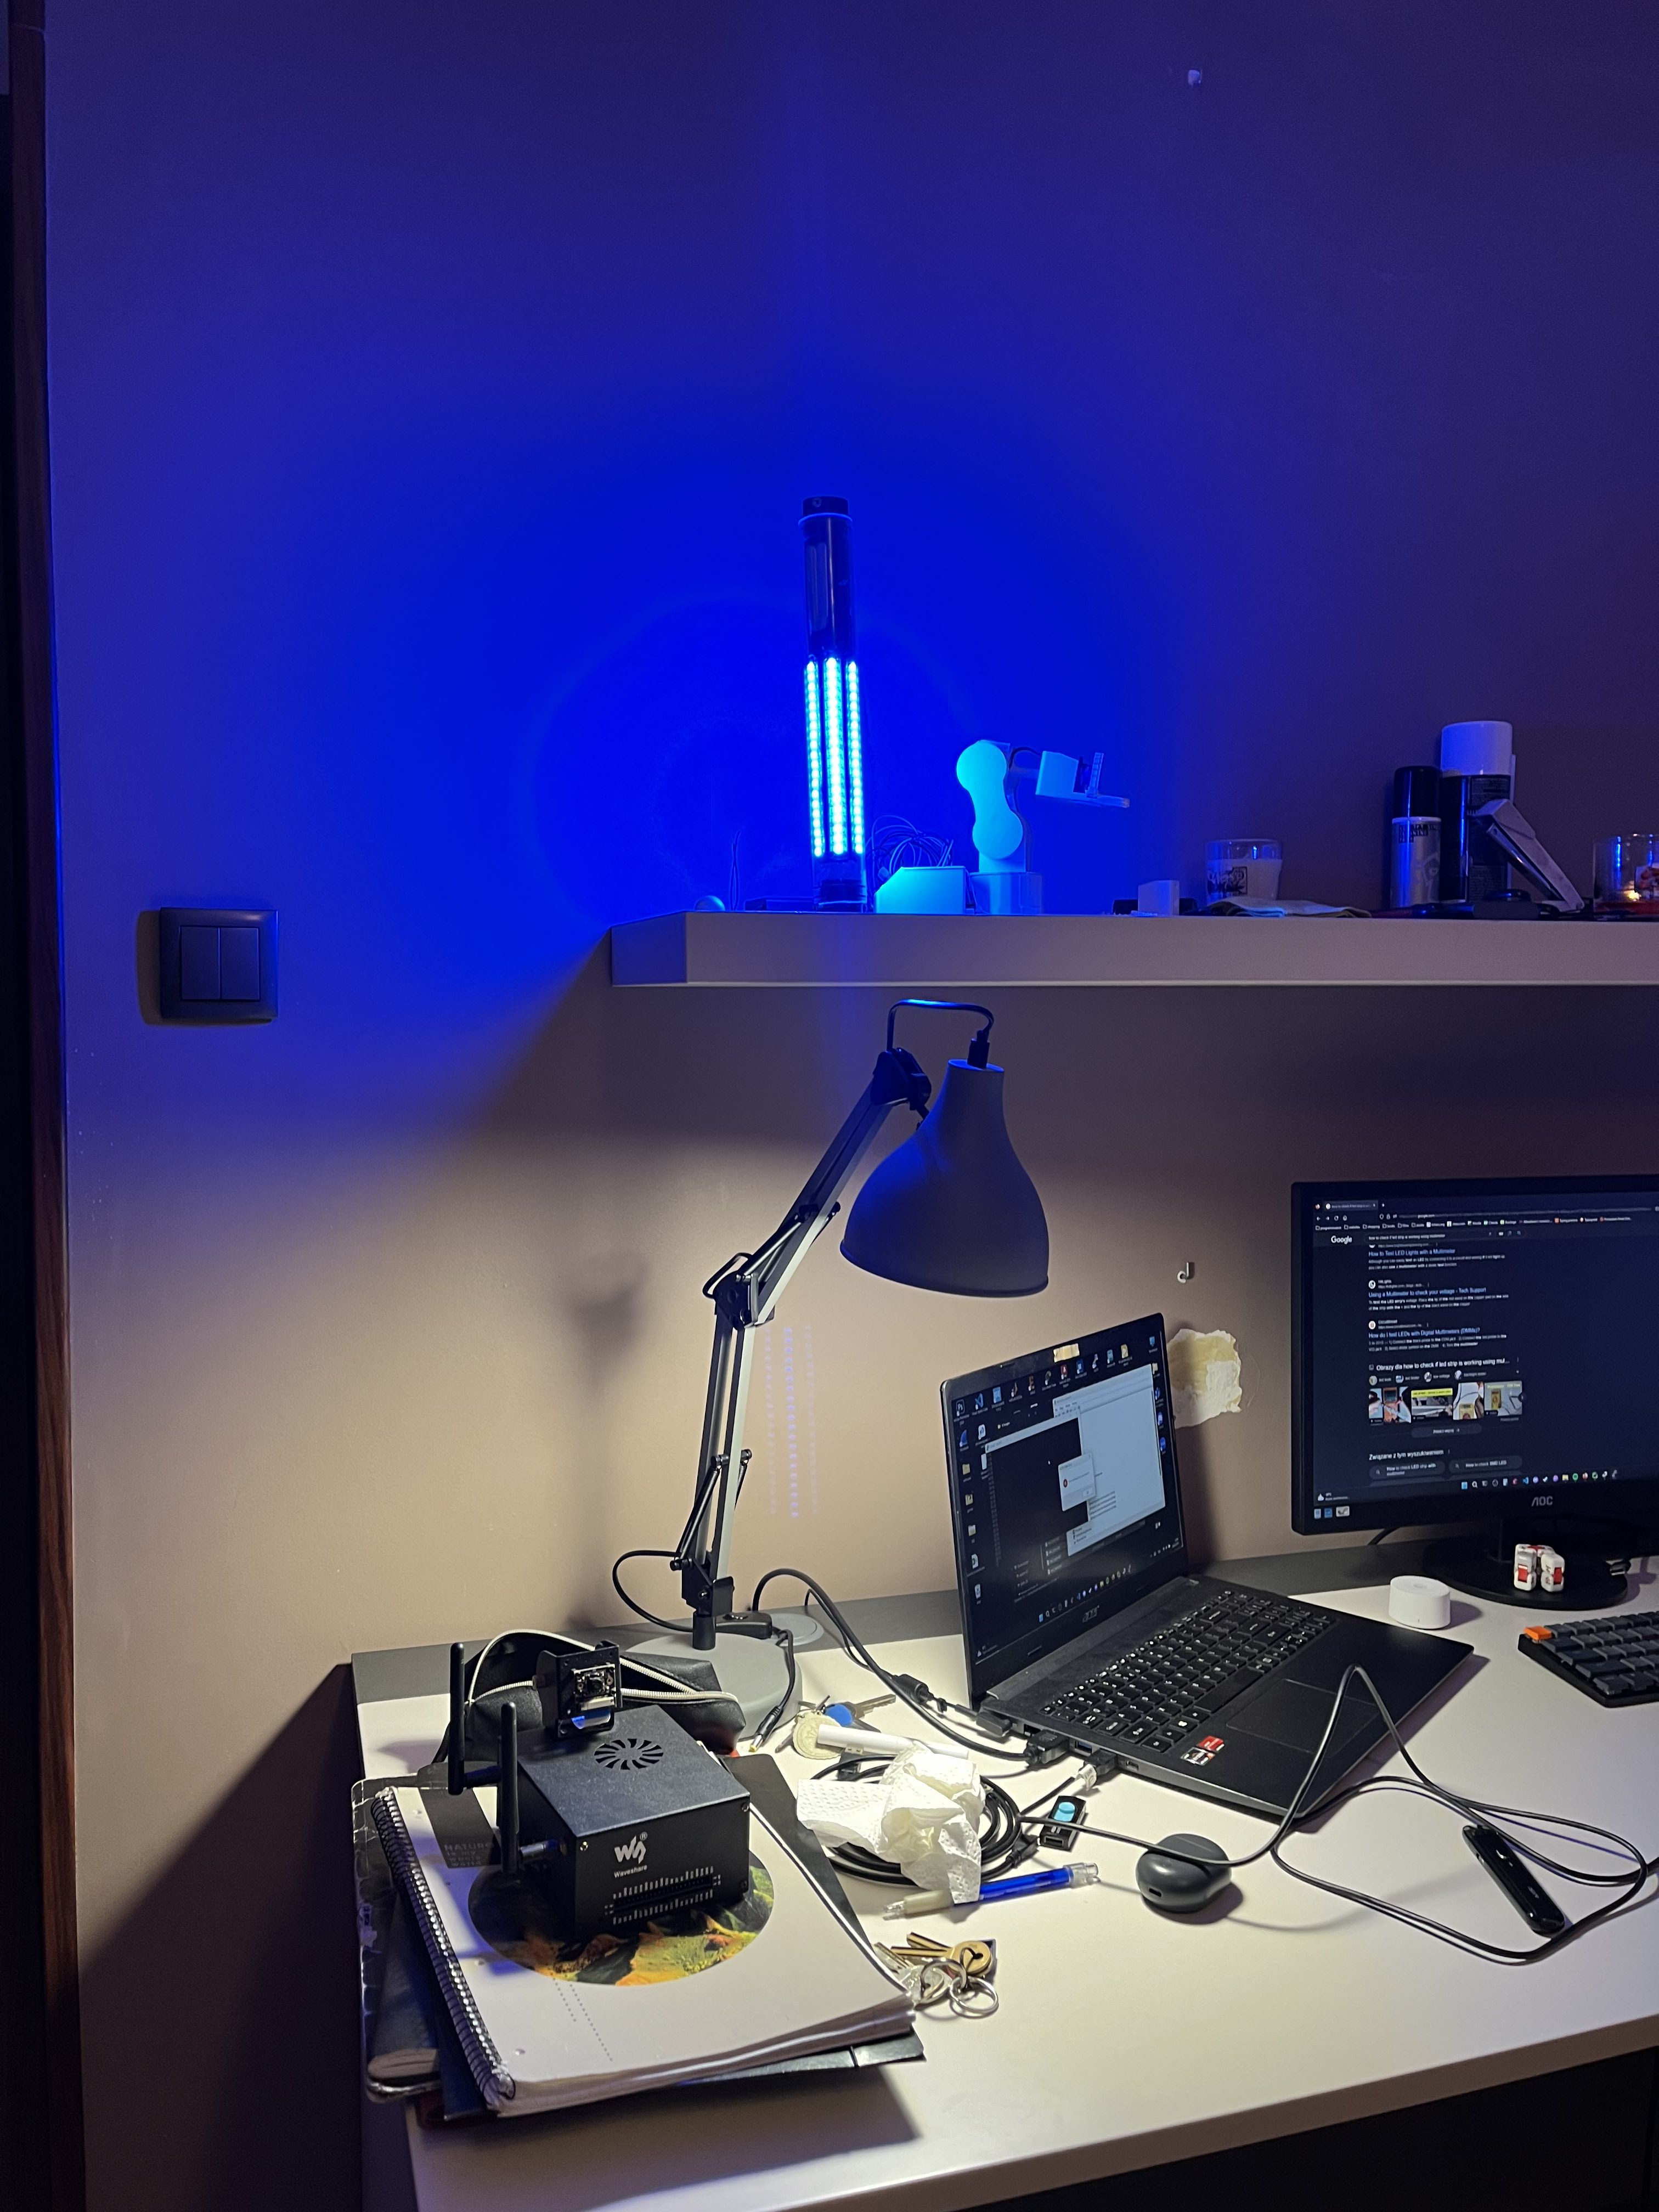blue: (802, 519, 866, 904)
